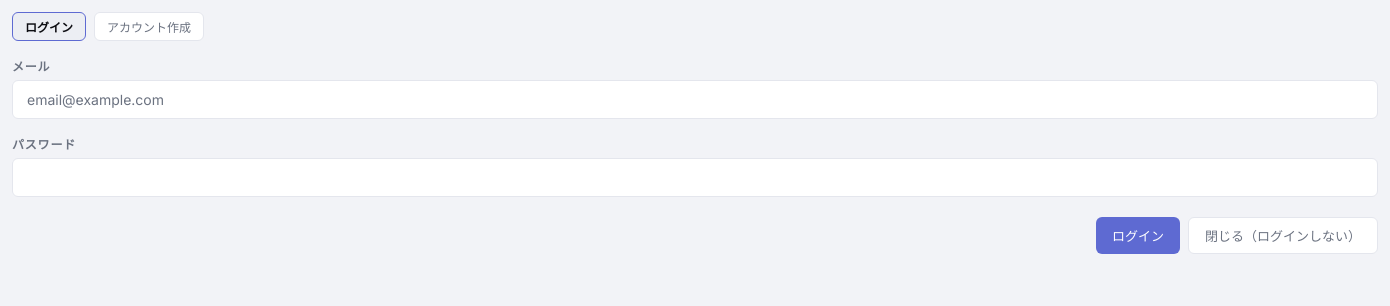
Test case: ProfileLoginForm › shows error when signup with password less than 6 chars
Click the button "アカウント作成".
click(149, 26)  # box [94,12,204,41]
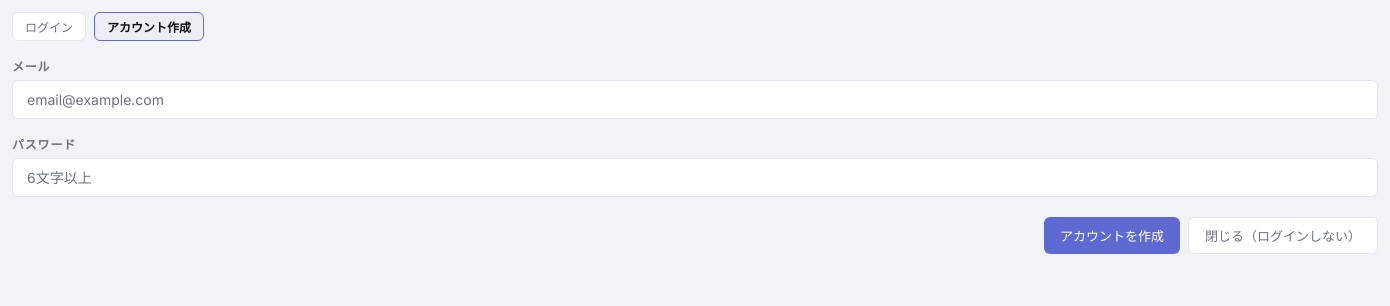
Type "a@b.co" into the field labelled "メール".
click(695, 100); type("a@b.co")  # box [12,80,1378,119]
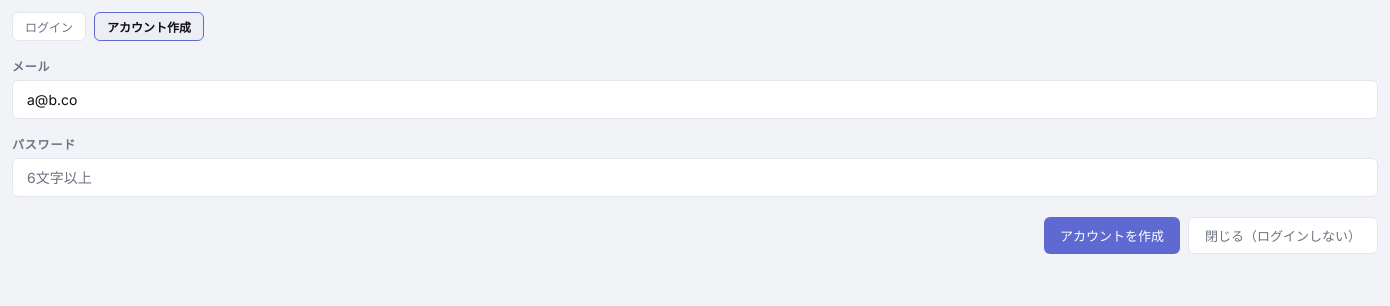
Type "12345" into the password field labelled "パスワード".
click(695, 178); type("12345")  # box [12,158,1378,197]
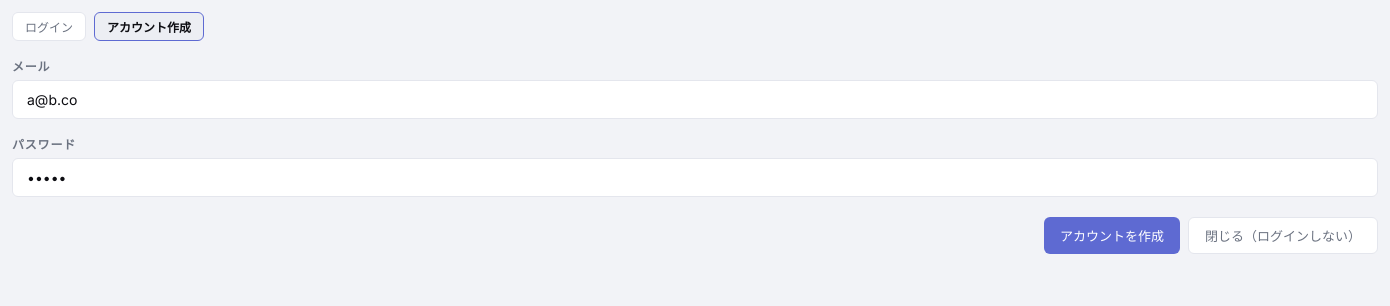
Submit the form "アカウントを作成"
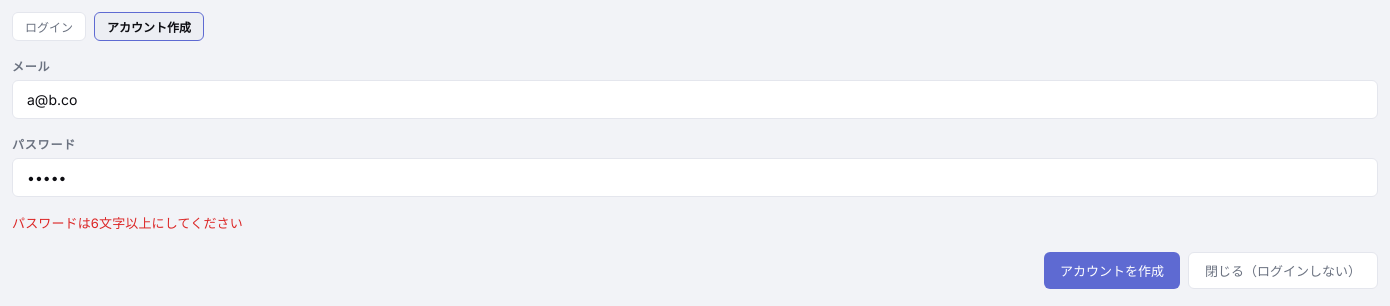
Expected: the text "パスワードは6文字以上にしてください" is shown, [12,215,243,231]
